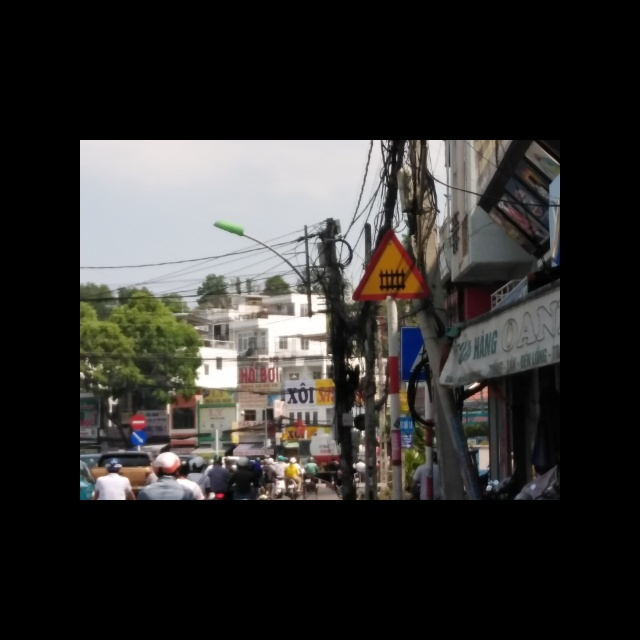Giao nhau với đường sắt có rào chắn: (349, 227, 429, 302)
